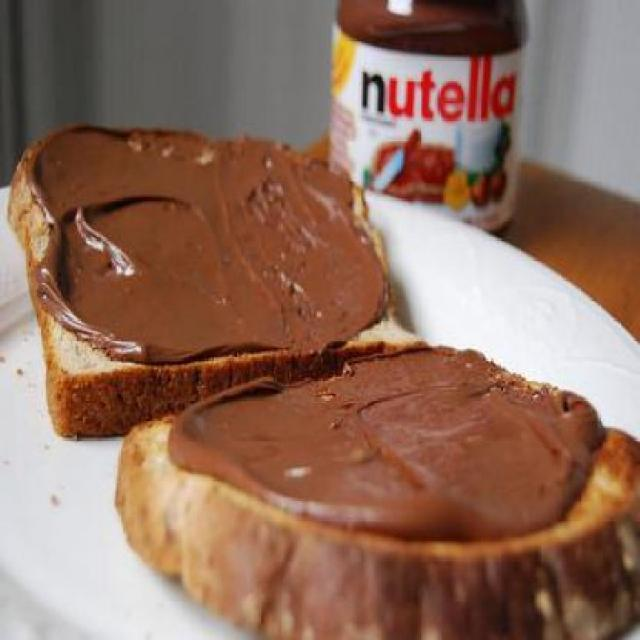Spread: (164, 348, 610, 537), (25, 124, 387, 353)
